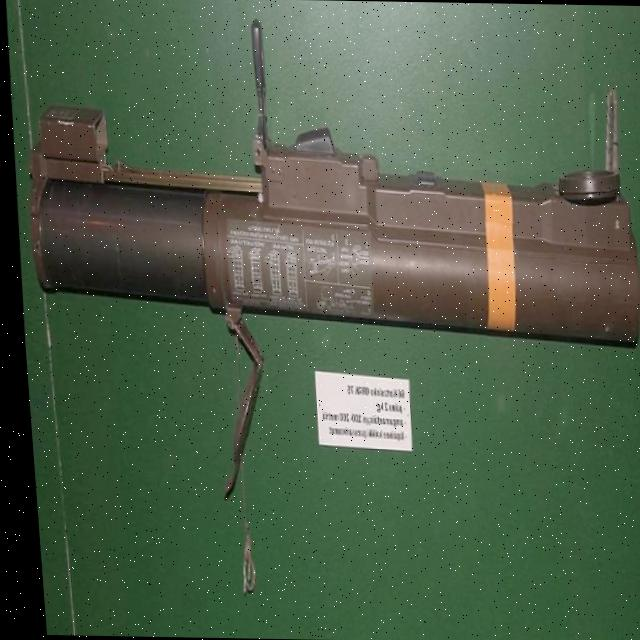rocket: (6, 11, 640, 338)
